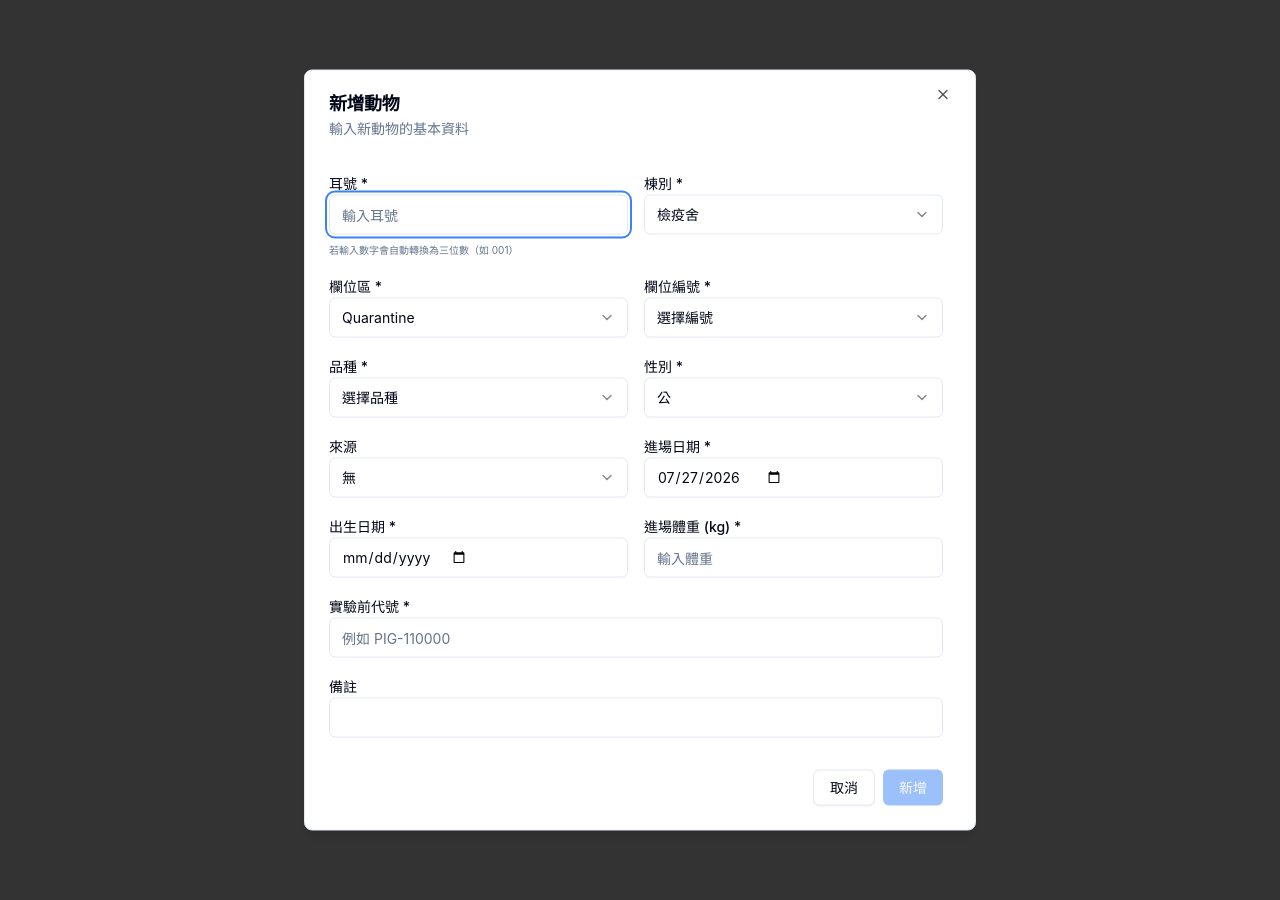
新增動物 — 欄位編號下拉 › 單字元 pen code 的選項可以被渲染出來
What coordinates should you click on to do the following:
click the dropdown "選擇編號"
I would click on:
 (685, 317)
Its box is x1=644 y1=298 x2=943 y2=338.
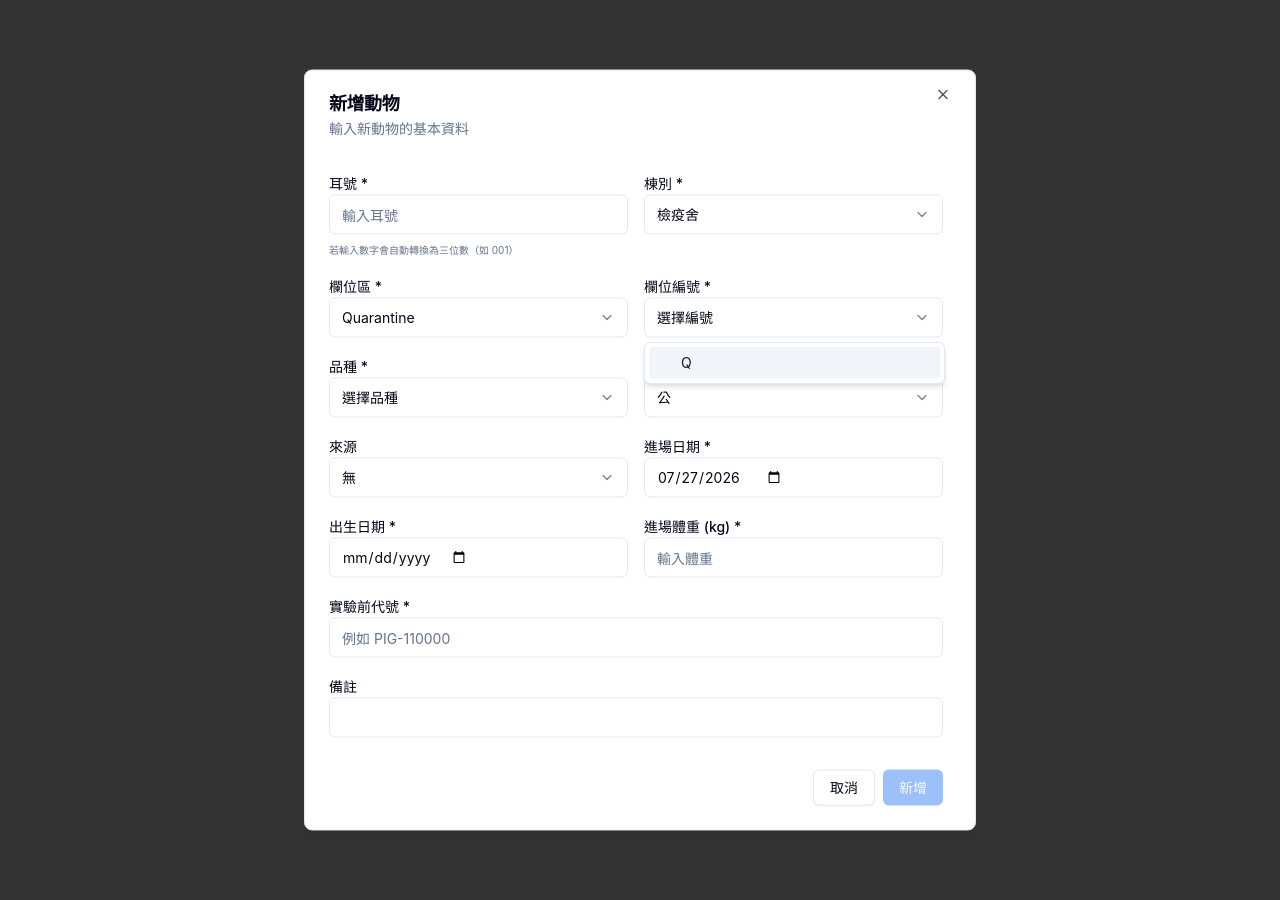
Result: the option "Q" is shown at x1=649 y1=347 x2=940 y2=379
